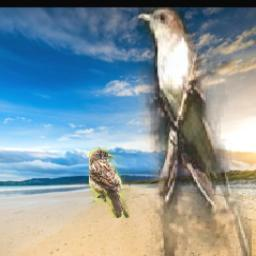Cuckoo: (138, 7, 252, 256)
Sparrow: (89, 149, 130, 219)
